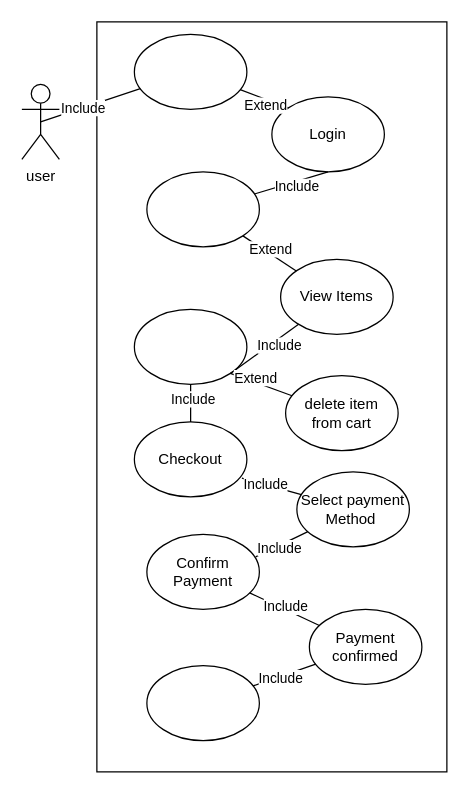
Some shapes in this 469 by 794 pixel diagram are drawn without their labels. The shapes that lost their labels are listed below. From the top down, each one's centre as x and y in pixels, then its label:
At point 190,71: "Register".
At point 202,209: "Home page".
At point 190,346: "Add item to Cart".
At point 202,702: "Delivery".
